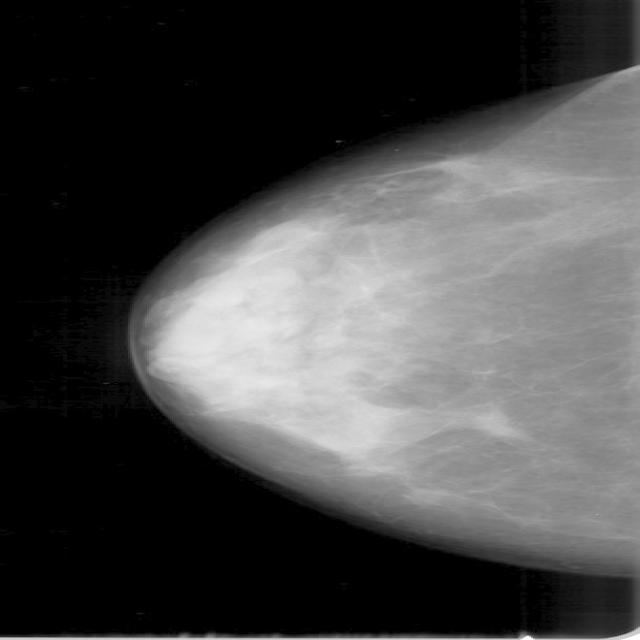tumour: (390, 152, 483, 178)
